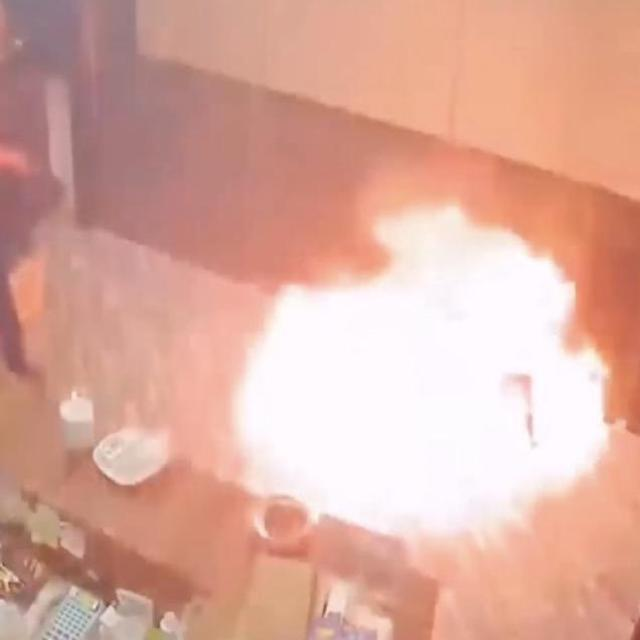smoke: (244, 208, 594, 537)
